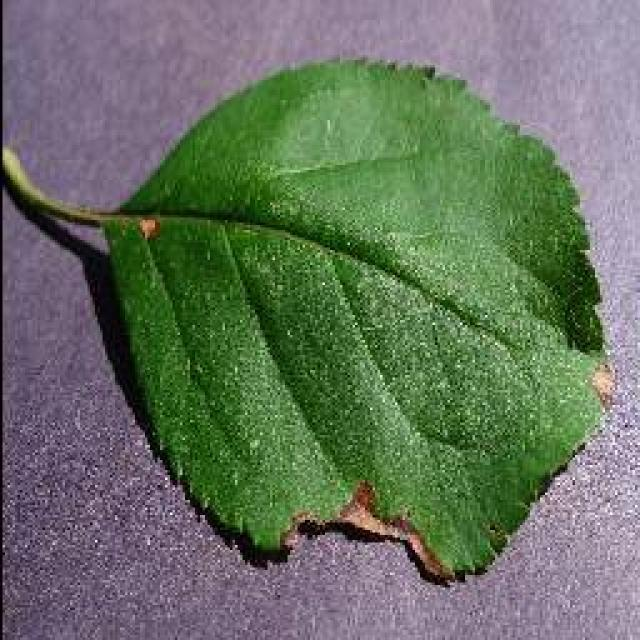Black_rot: (0, 52, 612, 585)
